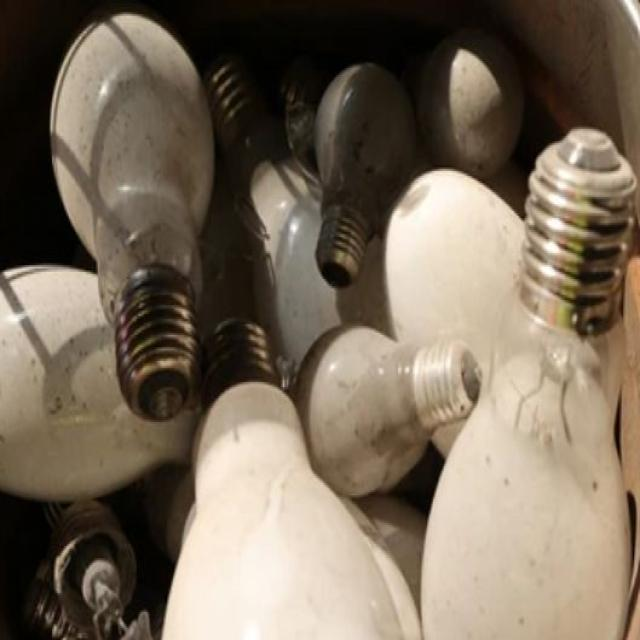electronic: (0, 0, 639, 638), (417, 124, 639, 638), (47, 2, 217, 420), (155, 378, 418, 638), (0, 260, 196, 500)
